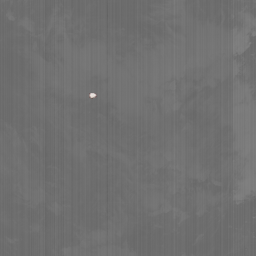Target: (88, 92, 97, 97)
